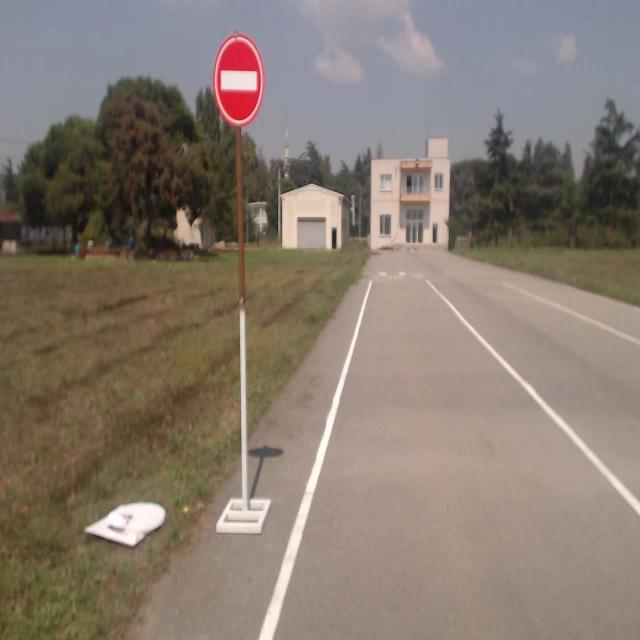girisyok: (215, 36, 263, 126)
